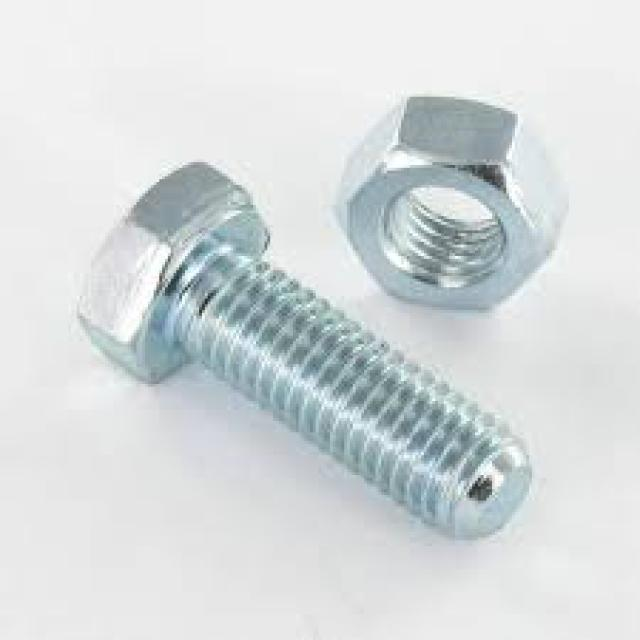Logam: (67, 100, 620, 552)
